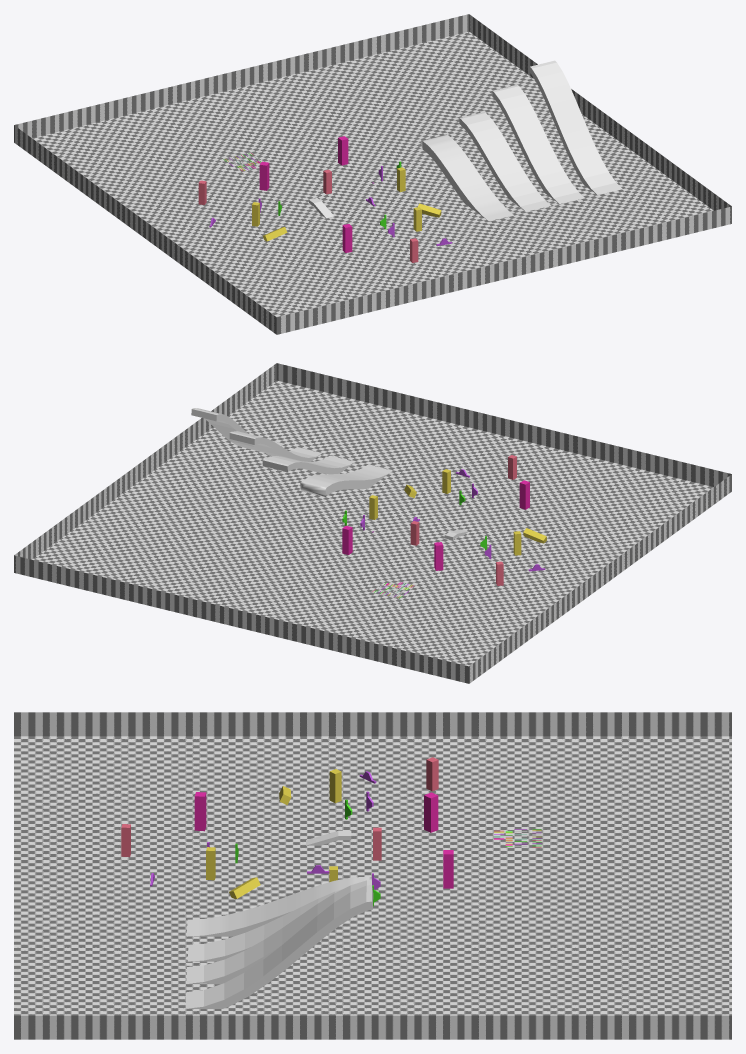
The model's file is 测试场景.fbx.
3 views of the same model, one above another, from view 1: azimuth 30°, elevation 25°; view 2: azimuth 150°, elevation 25°; view 3: azimuth 270°, elevation 25° (orthographic). The views are drawn at different scales.
Parts seen in each view (by area): view 1: Plane, 贝塞尔曲线.003, 贝塞尔曲线.001, 贝塞尔曲线, 贝塞尔曲线.002; view 2: Plane, 贝塞尔曲线.002, 贝塞尔曲线, 贝塞尔曲线.001, 贝塞尔曲线.003; view 3: Plane, 贝塞尔曲线.003, 贝塞尔曲线.002, 贝塞尔曲线.001, 贝塞尔曲线, Retopo_Cube.019.
Boxes of the visible parts, x1,y1,x2,y2 form: Plane: (14, 14, 731, 334); 贝塞尔曲线.003: (529, 60, 622, 194); 贝塞尔曲线.001: (492, 85, 584, 203); 贝塞尔曲线: (459, 112, 551, 211); 贝塞尔曲线.002: (421, 134, 513, 220); Plane: (14, 363, 731, 683); 贝塞尔曲线.002: (300, 464, 392, 496); 贝塞尔曲线: (262, 455, 354, 474); 贝塞尔曲线.001: (229, 431, 321, 461); 贝塞尔曲线.003: (191, 408, 284, 452); Plane: (14, 712, 731, 1039); 贝塞尔曲线.003: (185, 885, 373, 1008); 贝塞尔曲线.002: (186, 876, 371, 936); 贝塞尔曲线.001: (186, 880, 371, 983); 贝塞尔曲线: (187, 884, 371, 961); Retopo_Cube.019: (424, 792, 438, 832).
Bounding box in the file's own units: 655 × 655 × 120.
12 materials, 3 textured.
